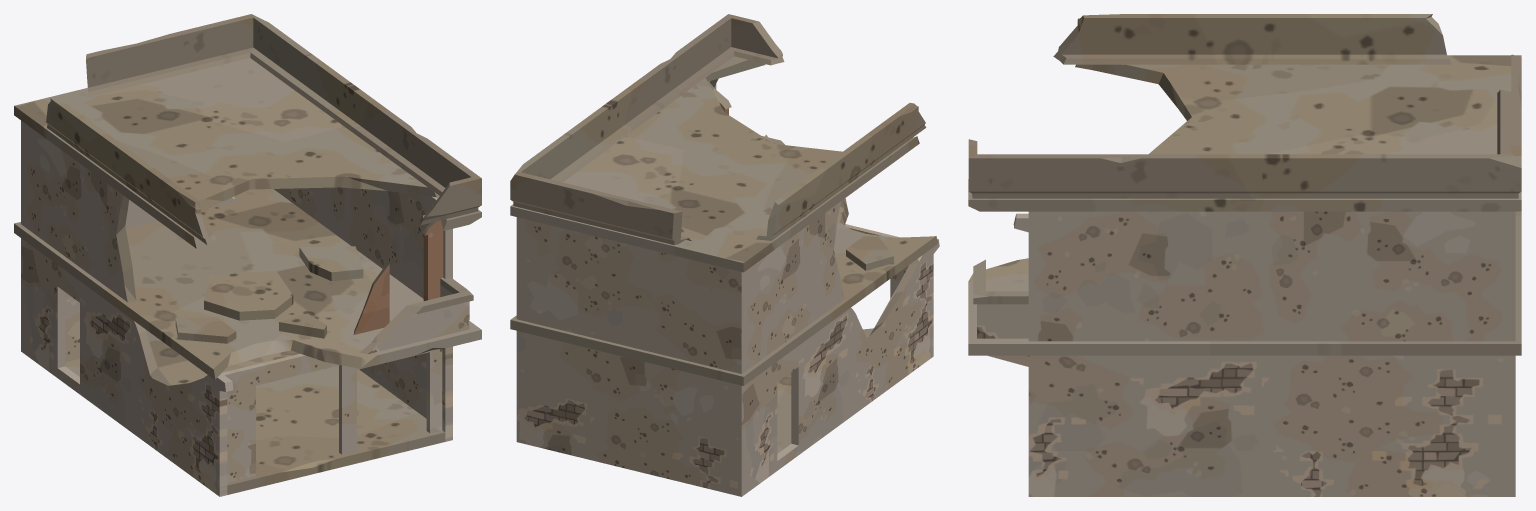
The model's file is SM_Bld_Shop_10_Destroyed.fbx.
The picture shows the model from 3 angles, left to right: view 1: azimuth 30°, elevation 25°; view 2: azimuth 150°, elevation 25°; view 3: azimuth 270°, elevation 25°; orthographic projection. The views are drawn at different scales.
Parts seen in each view (by area): view 1: SM_Bld_Shop_10_Destroyed; view 2: SM_Bld_Shop_10_Destroyed; view 3: SM_Bld_Shop_10_Destroyed.
Part boxes in pixels (bbox=[...]): SM_Bld_Shop_10_Destroyed: bbox=[14, 14, 481, 496]; SM_Bld_Shop_10_Destroyed: bbox=[510, 14, 939, 496]; SM_Bld_Shop_10_Destroyed: bbox=[968, 14, 1521, 496].
Size of the model in its own units: 702 by 773 by 1136.
